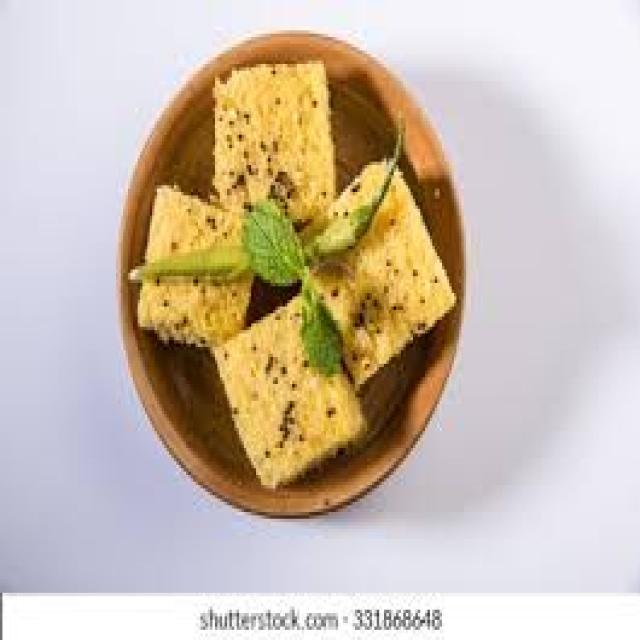DHOKLA: (116, 30, 464, 515), (213, 61, 333, 216)
